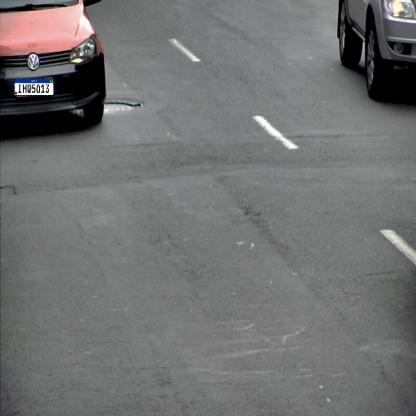PlacaM: (14, 78, 54, 96)
